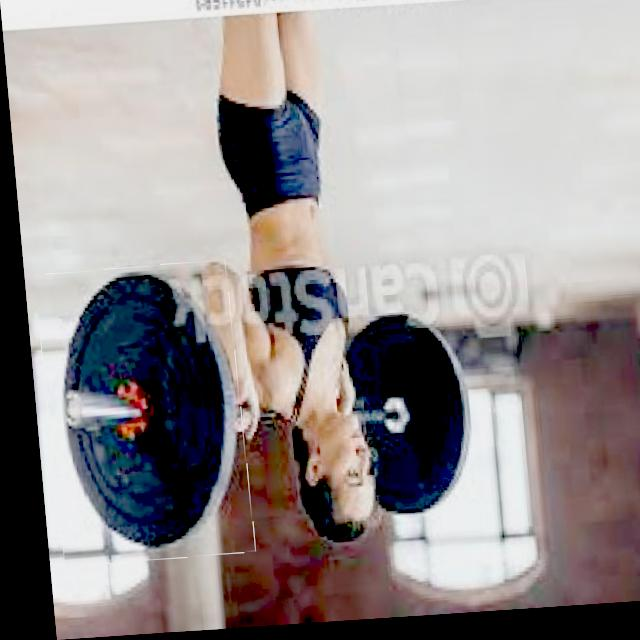barbell: (31, 264, 245, 567)
